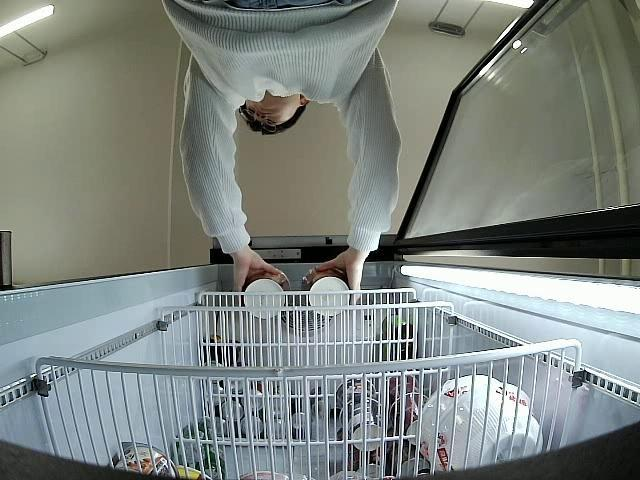05_nuguri_L: (242, 270, 291, 319), (303, 270, 350, 318)
